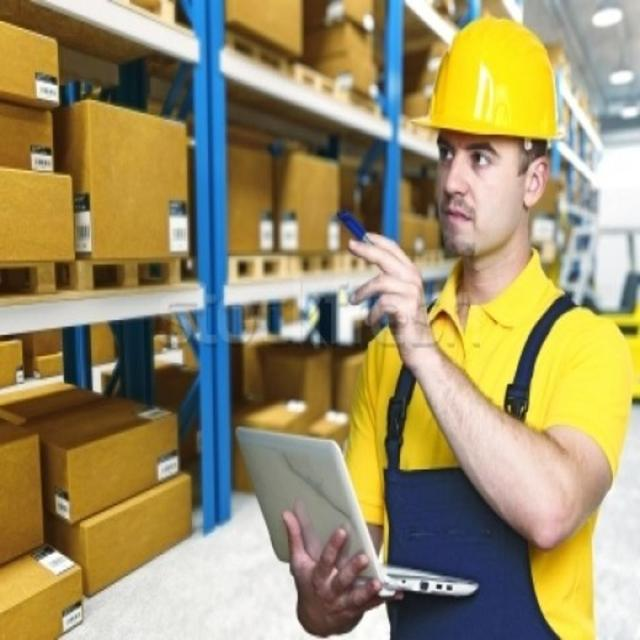Face: (433, 112, 516, 257)
